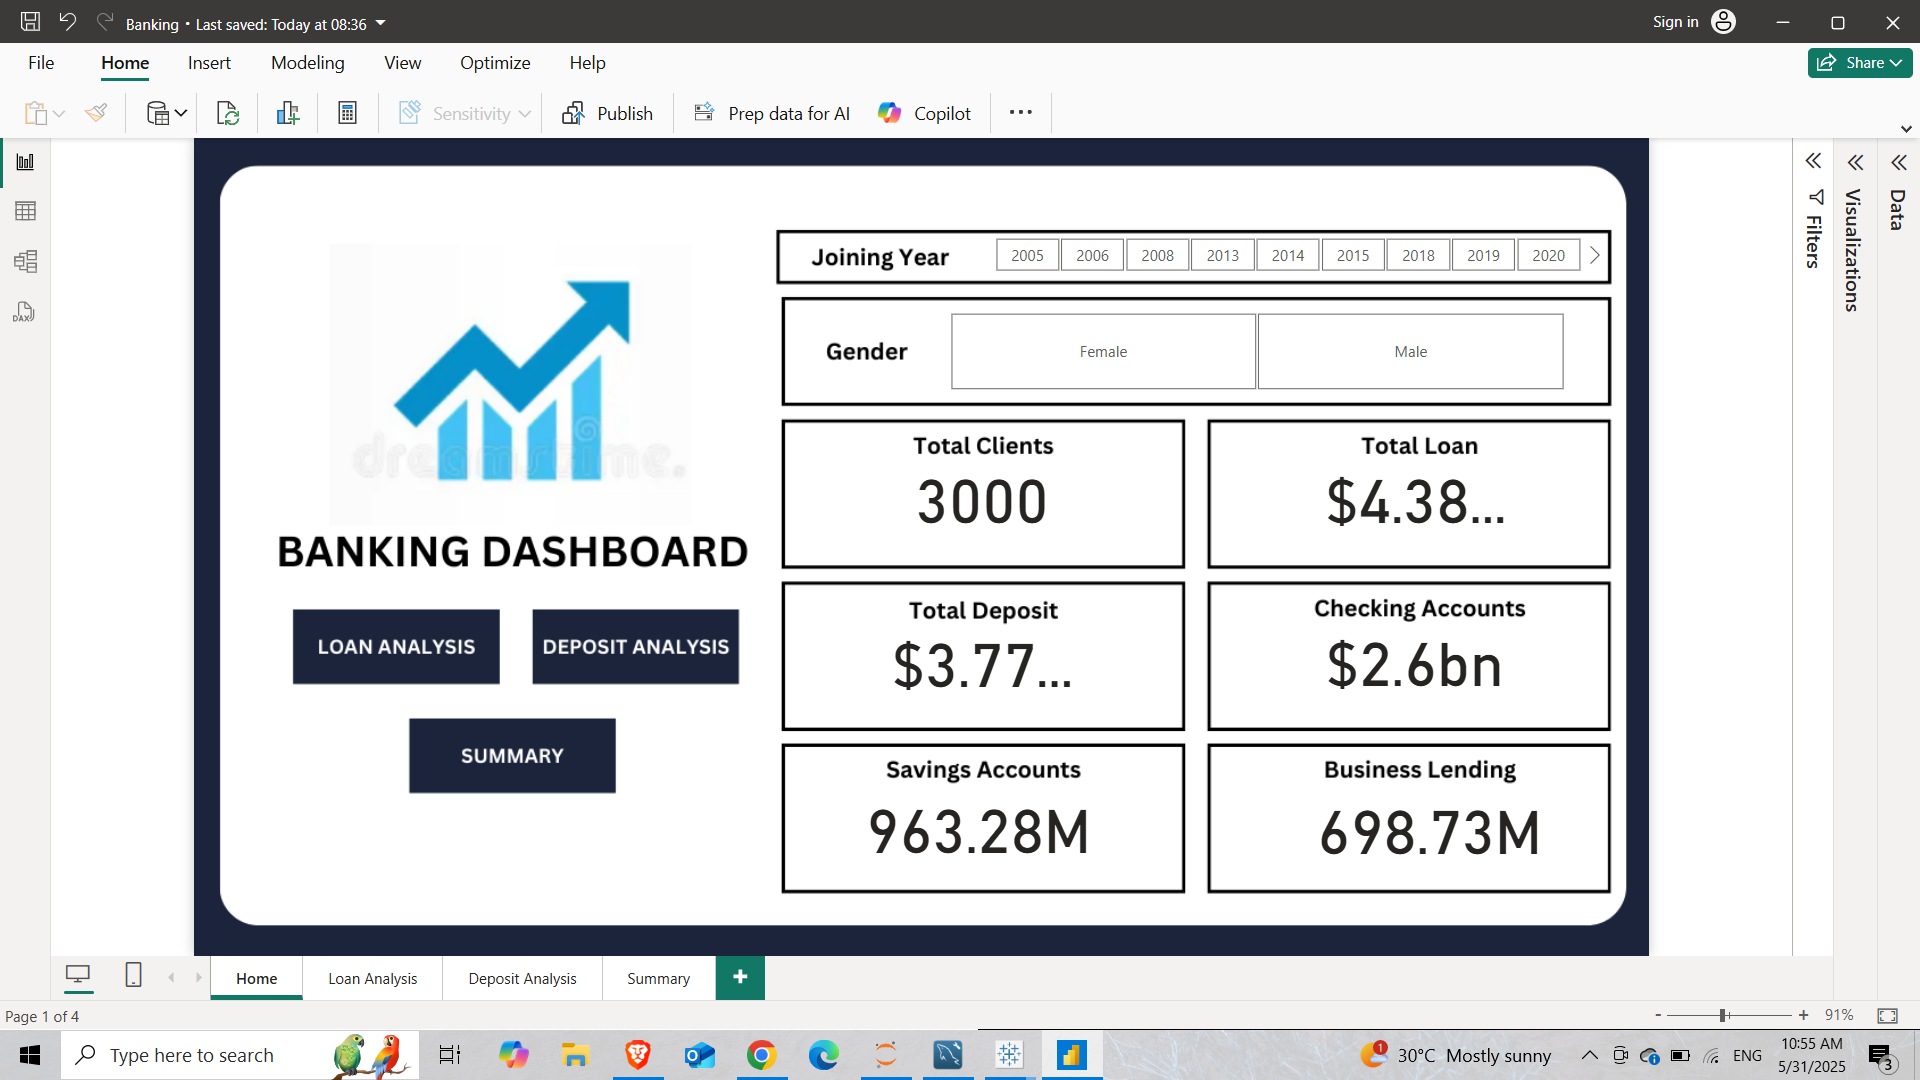

This screenshot's page, from the dashboard's own definition file:
{"tool":"powerbi","page":{"name":"Home","canvas":[1280,720],"ordinal":0},"visuals":[{"type":"card","title":"Total Client","fields":{"Values":["CountNonNull(Banking.Client ID)"]},"box":[609.3,288.2,168.8,71.4],"z":0},{"type":"slicer","fields":{"Values":["Banking.GenderId"]},"box":[639.5,146.8,588.7,81],"z":1000},{"type":"card","title":"Total Loan","fields":{"Values":["Avg(Banking.Total Loan)"]},"box":[989.4,292.3,170.2,63.1],"z":2000},{"type":"card","title":"Total Deposit","fields":{"Values":["Banking.Total Deposit"]},"box":[572.2,435,242.9,64.5],"z":3000},{"type":"slicer","fields":{"Values":["Banking.Year of Joining"]},"box":[679.2,81,564,42.5],"z":4000},{"type":"card","title":"Checking Accounts","fields":{"Values":["Sum(Banking.Checking Accounts)"]},"box":[585.9,581.8,208.6,64.5],"z":5000},{"type":"card","title":"Savings Accounts","fields":{"Values":["Sum(Banking.Saving Accounts)"]},"box":[981.1,580.4,212.7,68.6],"z":6000},{"type":"card","title":"Business Leading","fields":{"Values":["Sum(Banking.Business Lending)"]},"box":[981.1,432.2,186.6,70],"z":7000},{"type":"actionButton","box":[297.8,417.2,185.2,64.5],"z":8000},{"type":"actionButton","box":[182.5,511.8,188,64.5],"z":9000},{"type":"actionButton","box":[91.9,417.2,172.9,64.5],"z":10000}]}

Visuals, with their boxes on the page's 1280x720 design canvas (x1, y1, x2, y2). These are canvas units, not pixel positions in the 1920x1080 screenshot, which may show the page scaled, cropped or inside an application window:
"Total Client" card: 609 288 778 360
slicer - Banking.GenderId: 640 147 1228 228
"Total Loan" card: 989 292 1160 355
"Total Deposit" card: 572 435 815 500
slicer - Banking.Year of Joining: 679 81 1243 124
"Checking Accounts" card: 586 582 794 646
"Savings Accounts" card: 981 580 1194 649
"Business Leading" card: 981 432 1168 502
actionButton: 298 417 483 482
actionButton: 182 512 370 576
actionButton: 92 417 265 482
